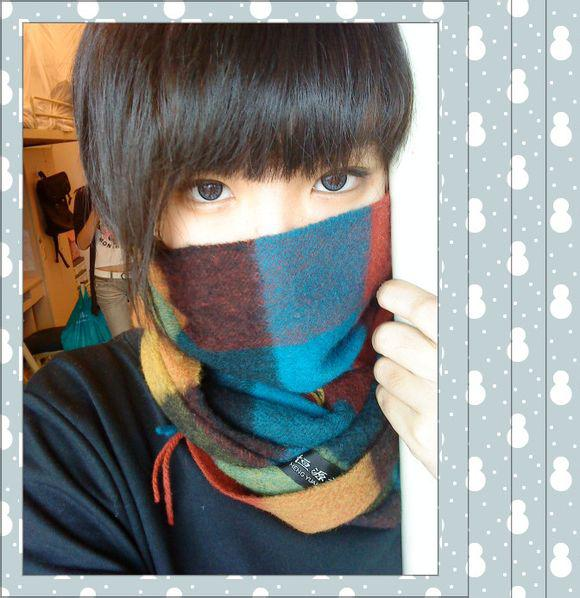OK: (149, 122, 393, 366)
